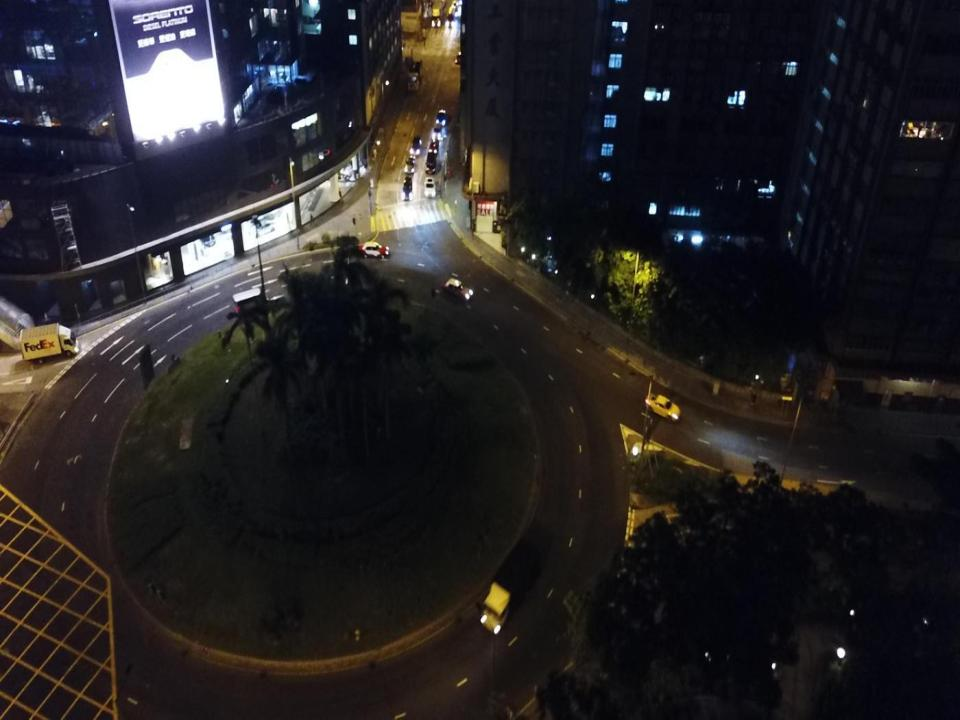car: (645, 394, 684, 423), (440, 277, 473, 300), (357, 242, 389, 258), (250, 219, 276, 238), (198, 219, 216, 246), (455, 50, 478, 66), (424, 176, 436, 197), (410, 136, 422, 156), (404, 157, 416, 173), (431, 122, 442, 139), (428, 138, 439, 153), (435, 111, 446, 125)
truck: (482, 535, 542, 638), (19, 325, 79, 363), (407, 60, 424, 90), (430, 0, 442, 27), (447, 7, 456, 28)
van: (232, 289, 266, 316), (426, 152, 436, 174), (403, 176, 412, 200)
